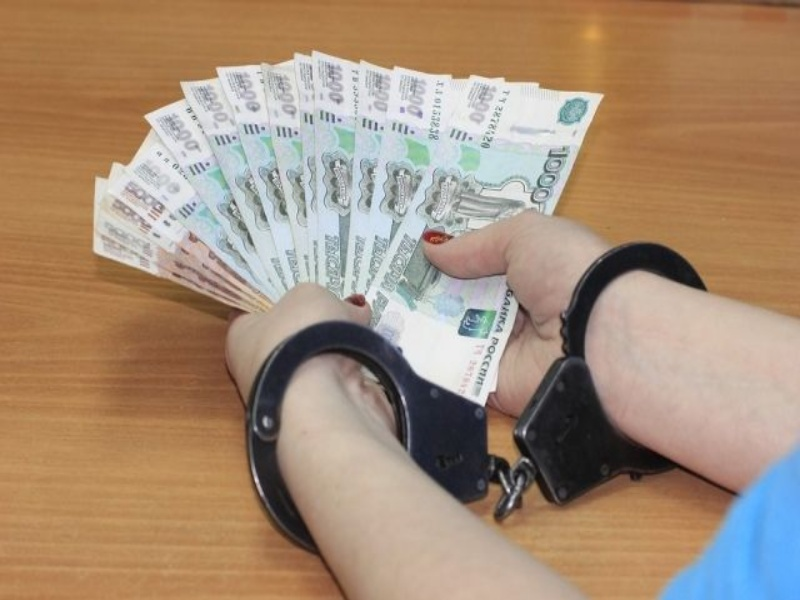cash: (92, 49, 604, 408)
